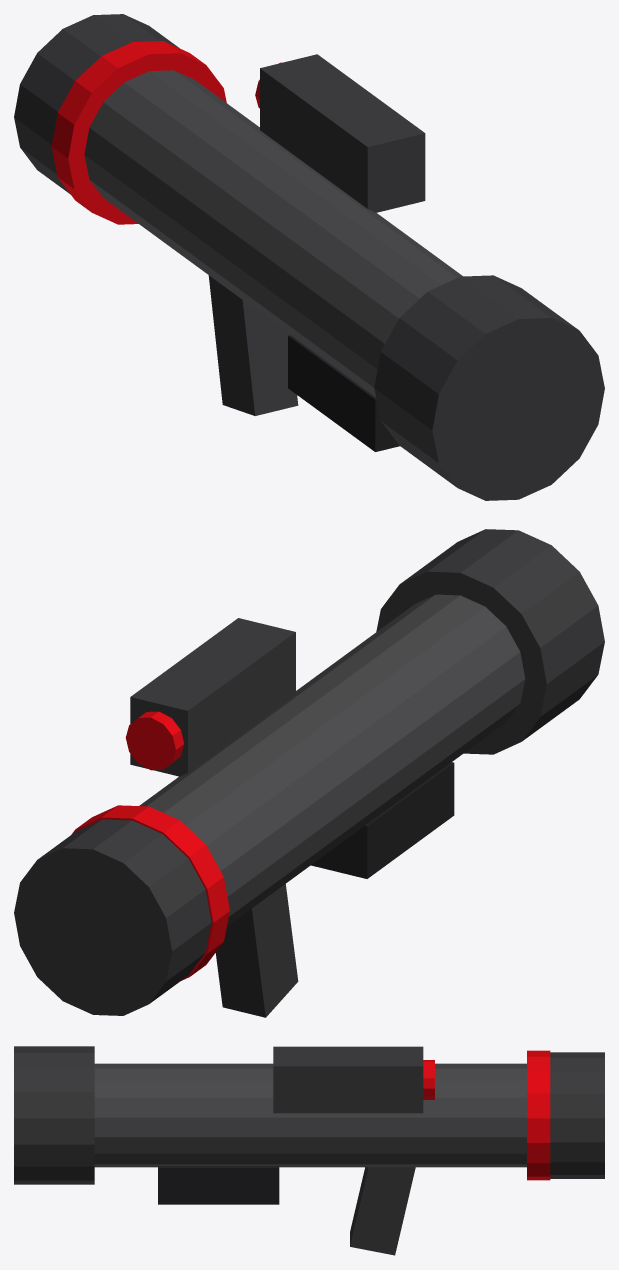
File: rocket_launcher.glb
3 views of the same model, one above another, from view 1: azimuth 30°, elevation 25°; view 2: azimuth 150°, elevation 25°; view 3: azimuth 270°, elevation 25° (orthographic). The views are drawn at different scales.
Visible parts, largest first — view 1: Launcher_Tube, Launcher_Exhaust, Launcher_OpticScope, Launcher_CrimsonStripe, Launcher_MuzzleShroud, Launcher_Grip, Launcher_ShoulderPad; view 2: Launcher_Tube, Launcher_MuzzleShroud, Launcher_Exhaust, Launcher_OpticScope, Launcher_Grip, Launcher_ShoulderPad, Launcher_CrimsonStripe, Launcher_ScopeLens; view 3: Launcher_Tube, Launcher_Exhaust, Launcher_OpticScope, Launcher_MuzzleShroud, Launcher_ShoulderPad, Launcher_Grip, Launcher_CrimsonStripe, Launcher_ScopeLens.
Boxes of the visible parts, box(x1,y1,x2,y2) form: Launcher_Tube: box(84, 70, 462, 397); Launcher_Exhaust: box(374, 275, 604, 500); Launcher_OpticScope: box(260, 54, 425, 212); Launcher_CrimsonStripe: box(51, 41, 226, 224); Launcher_MuzzleShroud: box(14, 14, 178, 194); Launcher_Grip: box(208, 275, 298, 415); Launcher_ShoulderPad: box(288, 335, 399, 451); Launcher_Tube: box(139, 594, 525, 926); Launcher_MuzzleShroud: box(14, 819, 211, 1015); Launcher_Exhaust: box(376, 529, 604, 754); Launcher_OpticScope: box(130, 618, 295, 776); Launcher_Grip: box(215, 884, 298, 1017); Launcher_ShoulderPad: box(311, 762, 454, 878); Launcher_CrimsonStripe: box(71, 805, 229, 980); Launcher_ScopeLens: box(125, 711, 184, 770); Launcher_Tube: box(94, 1063, 526, 1167); Launcher_Exhaust: box(14, 1046, 94, 1184); Launcher_OpticScope: box(273, 1046, 423, 1113); Launcher_MuzzleShroud: box(550, 1052, 604, 1178); Launcher_ShoulderPad: box(158, 1166, 279, 1204); Launcher_Grip: box(350, 1167, 415, 1255); Launcher_CrimsonStripe: box(527, 1050, 550, 1180); Launcher_ScopeLens: box(423, 1060, 434, 1099).
Bounding box in the file's own units: 0.5 × 0.8178 × 2.05.
